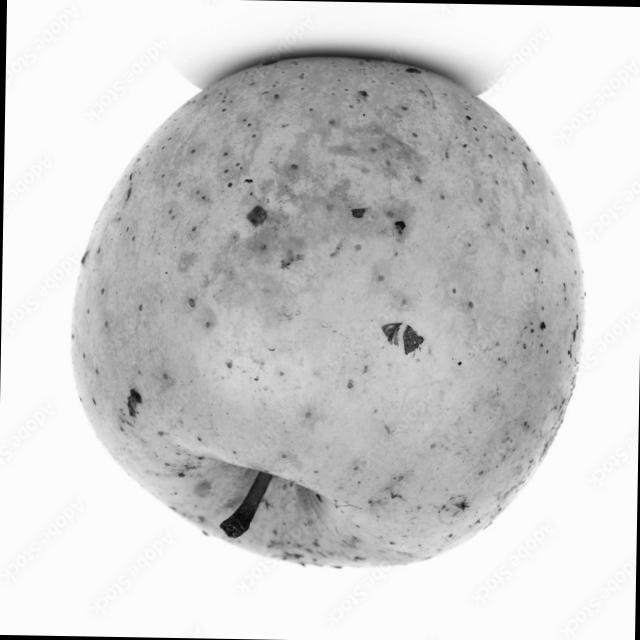Rotten Apple: (64, 47, 588, 570)
